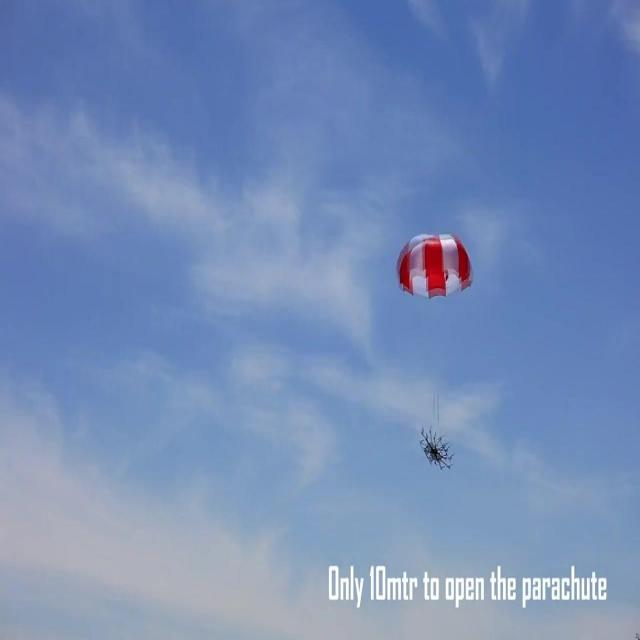UAV: (419, 424, 454, 471)
